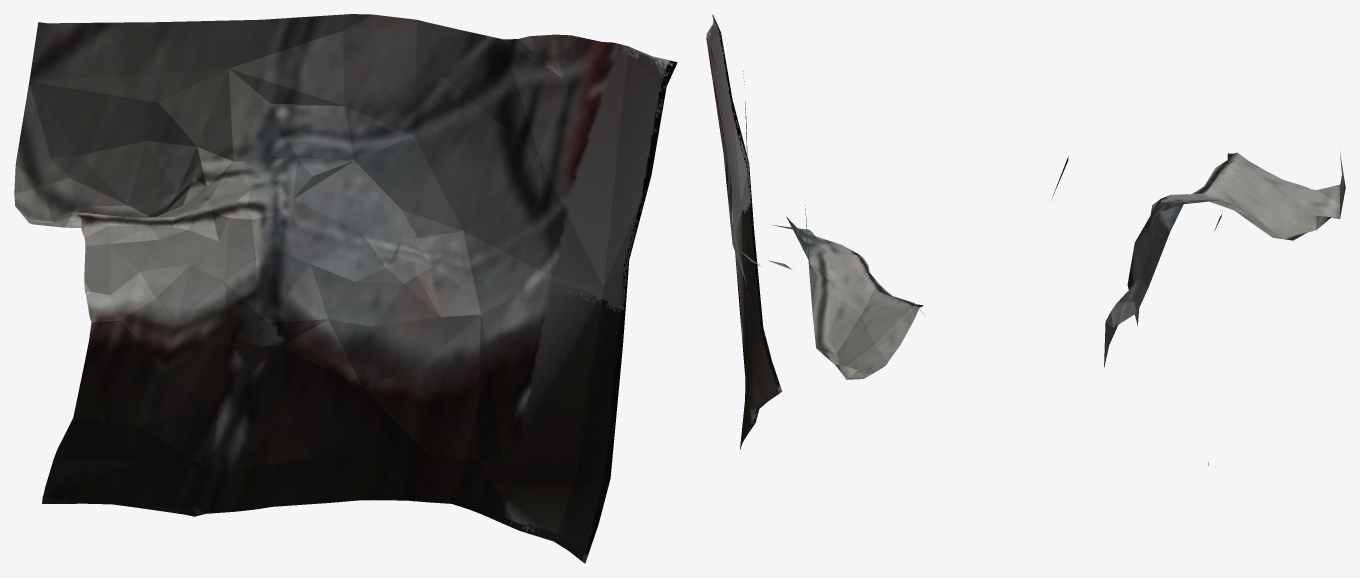
The picture shows the model from 3 angles, left to right: view 1: azimuth 30°, elevation 25°; view 2: azimuth 150°, elevation 25°; view 3: azimuth 270°, elevation 25°; orthographic projection. The views are drawn at different scales.
Size of the model in its own units: 1.6 by 1.67 by 1.44.
Materials: 3 (3 with a texture image).
